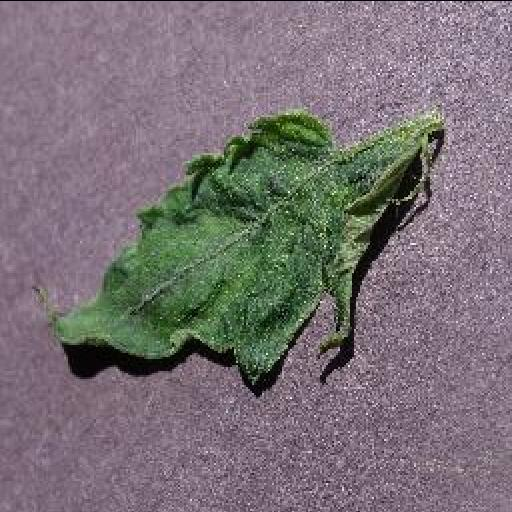disease_tomato: (48, 109, 400, 387)
